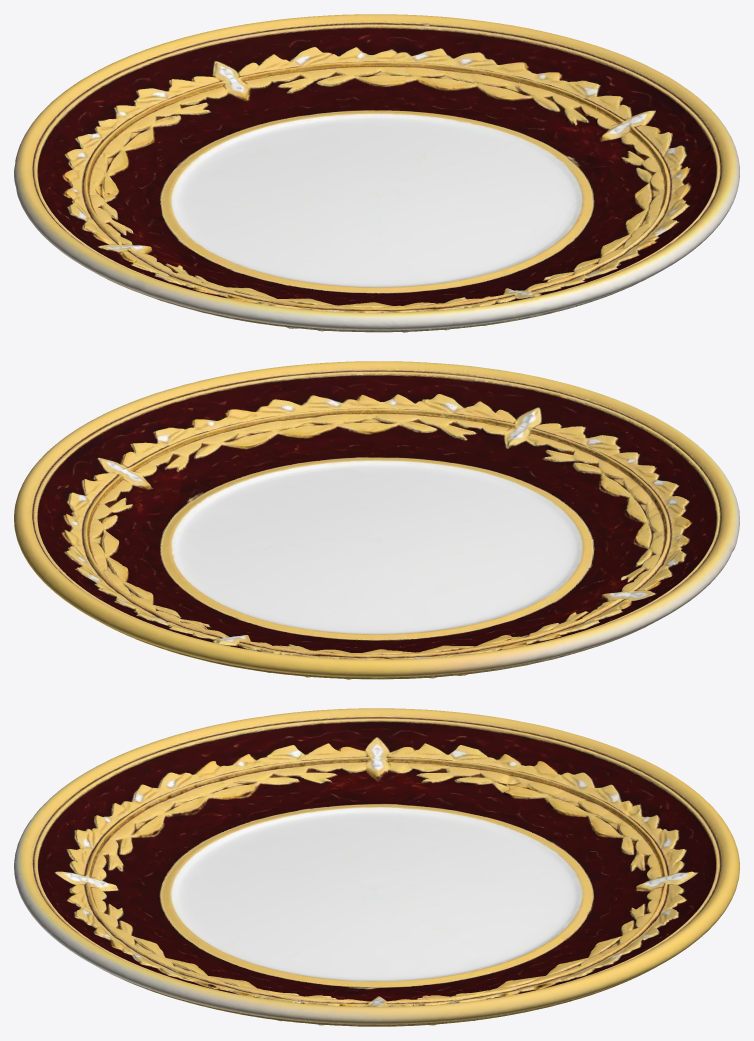
Rendered from Tabak_m.glb.
The picture shows the model from 3 angles, top to bottom: view 1: azimuth 30°, elevation 25°; view 2: azimuth 150°, elevation 25°; view 3: azimuth 270°, elevation 25°; orthographic projection.
Visible parts, largest first — view 1: mesh_node; view 2: mesh_node; view 3: mesh_node.
Boxes of the visible parts, x1,y1,x2,y2 form: mesh_node: (14, 14, 739, 332); mesh_node: (14, 361, 739, 679); mesh_node: (14, 708, 739, 1026).
Size of the model in its own units: 1.9 by 0.2187 by 1.9.
Materials: 1 (1 with a texture image).
